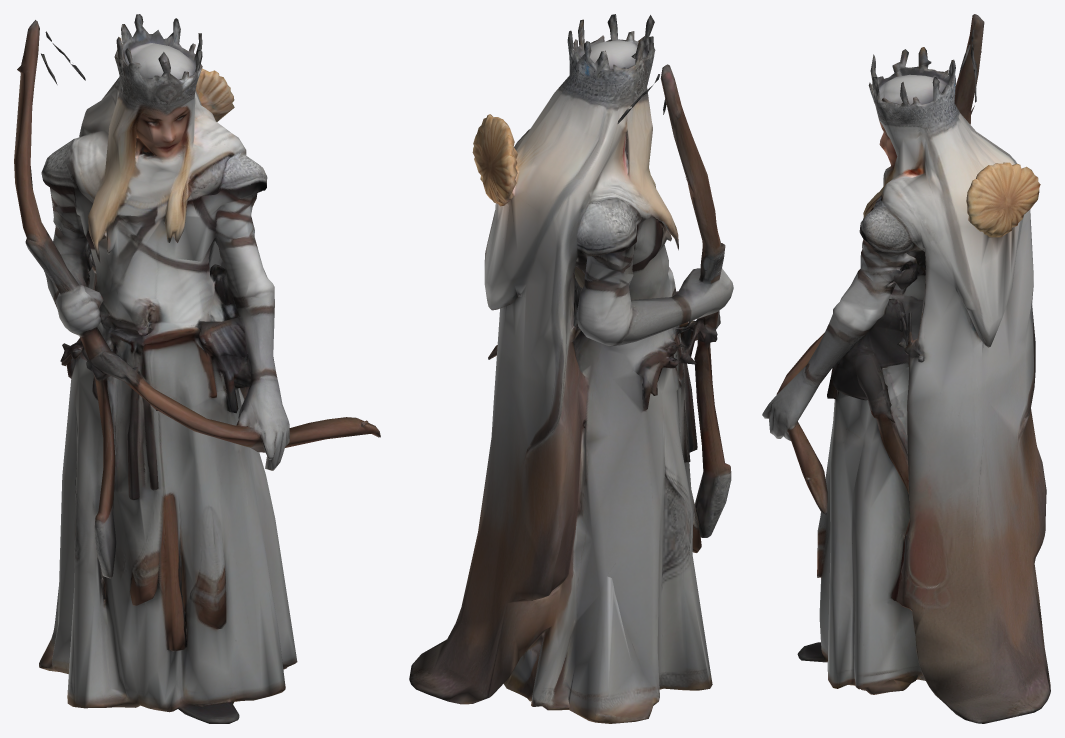
The model's file is Queen.fbx.
3 renders of one model, left to right at view 1: azimuth 30°, elevation 25°; view 2: azimuth 150°, elevation 25°; view 3: azimuth 270°, elevation 25°, orthographic. The views are drawn at different scales.
Visible parts, largest first — view 1: Mesh_0; view 2: Mesh_0; view 3: Mesh_0.
Part boxes in pixels (bbox=[...]): Mesh_0: bbox=[14, 14, 380, 723]; Mesh_0: bbox=[409, 14, 733, 723]; Mesh_0: bbox=[762, 14, 1050, 723].
Bounding box in the file's own units: 94.55 × 200 × 87.26.
1 material, 1 textured.
